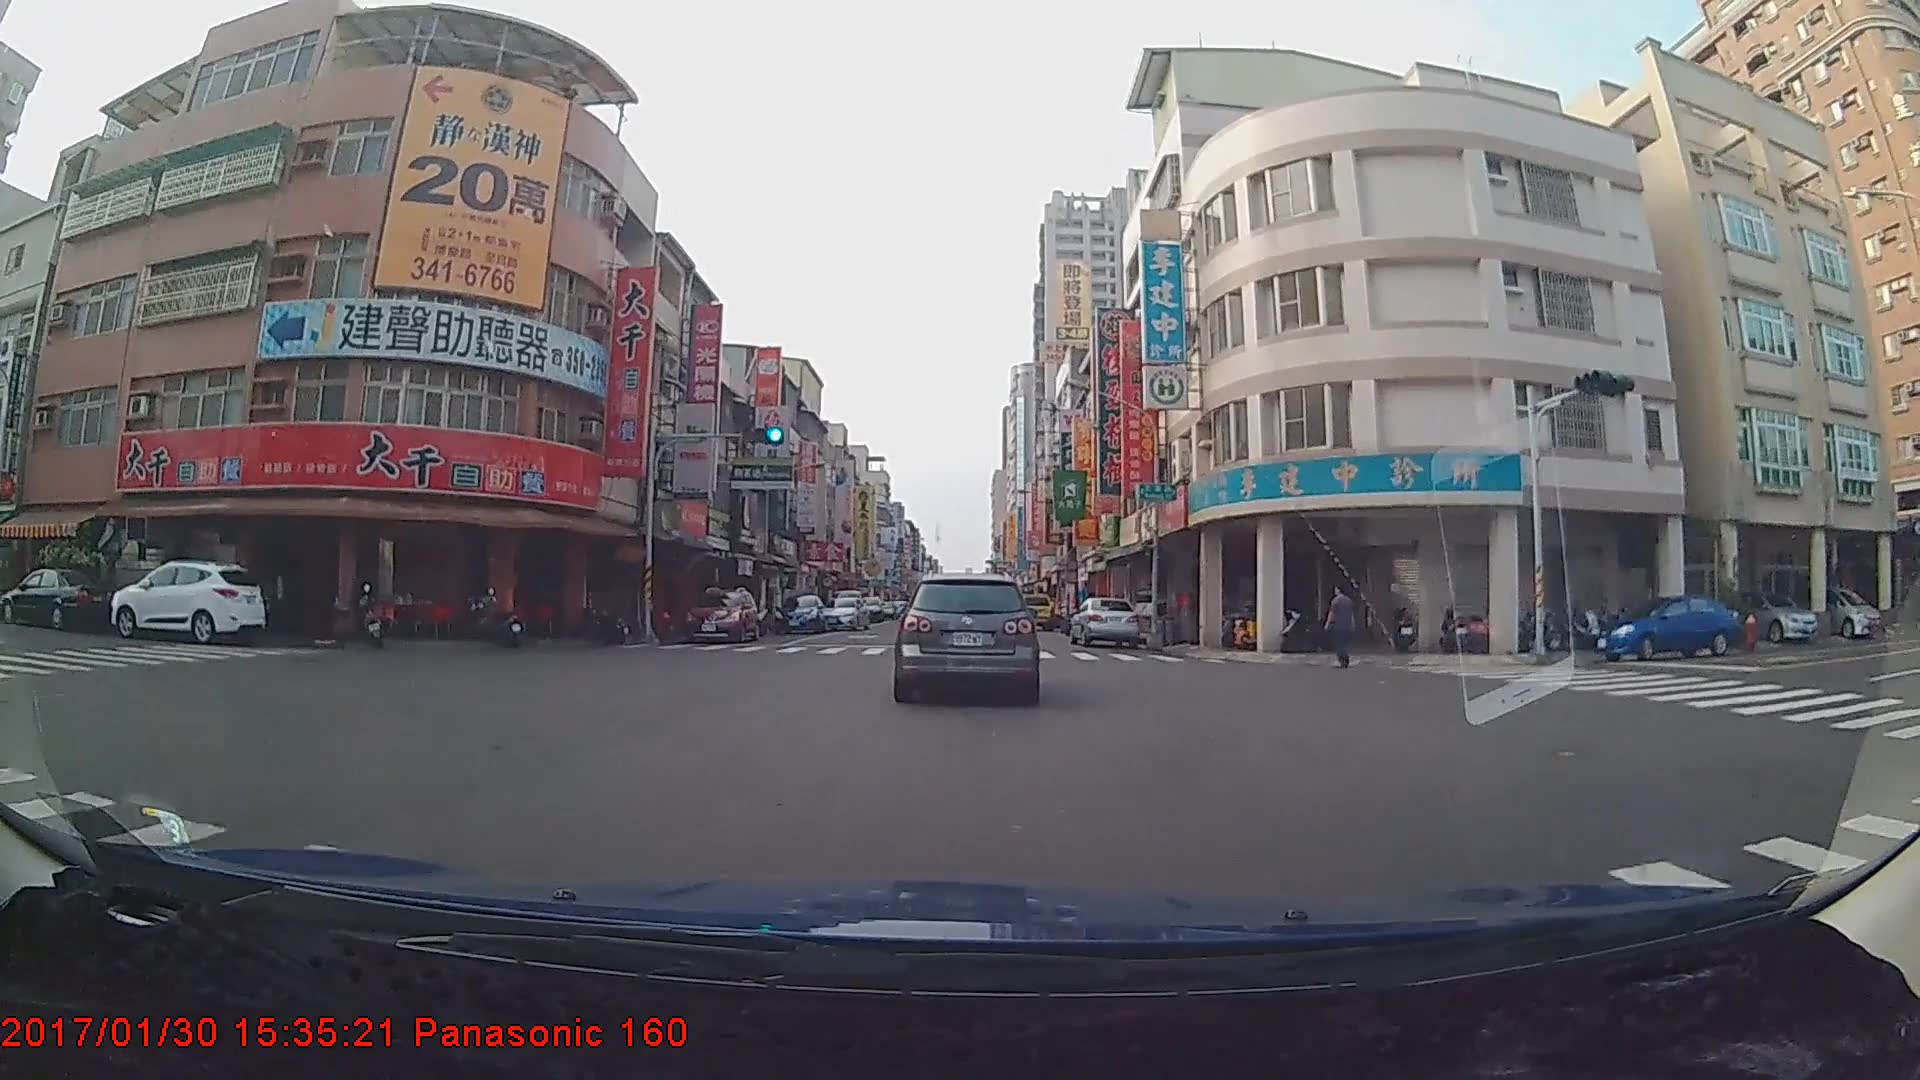pedestrian: (1325, 586, 1362, 673)
vehicle: (892, 571, 1039, 703), (108, 558, 262, 644), (1596, 593, 1740, 659), (1714, 583, 1824, 643), (5, 568, 106, 632), (1783, 582, 1885, 640), (679, 583, 759, 639), (1063, 593, 1140, 650), (772, 589, 829, 631), (815, 592, 870, 626), (1014, 590, 1055, 627)
